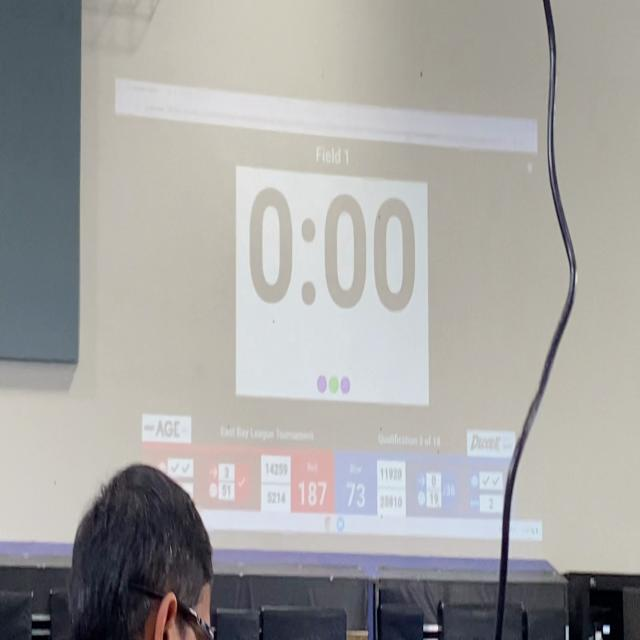artifact_purple: (317, 376, 327, 392), (341, 377, 350, 394)
